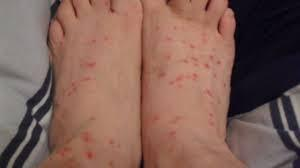Chiggers: (60, 70, 97, 99), (202, 58, 217, 73), (203, 85, 217, 99), (190, 54, 202, 69), (155, 64, 166, 79), (58, 145, 73, 156), (80, 131, 92, 143), (207, 111, 215, 127), (80, 60, 95, 68), (166, 129, 176, 140), (86, 115, 97, 125), (86, 36, 96, 46), (201, 31, 208, 44), (85, 150, 95, 159), (190, 71, 199, 81), (104, 137, 115, 145), (173, 114, 183, 122), (216, 58, 223, 68), (108, 159, 116, 167), (150, 114, 159, 121), (174, 75, 184, 81), (221, 81, 228, 89), (102, 33, 109, 40), (170, 80, 178, 86), (162, 53, 170, 59), (181, 58, 189, 63), (166, 35, 172, 41), (209, 54, 215, 60), (213, 72, 217, 81), (190, 43, 197, 48), (173, 26, 179, 31)
